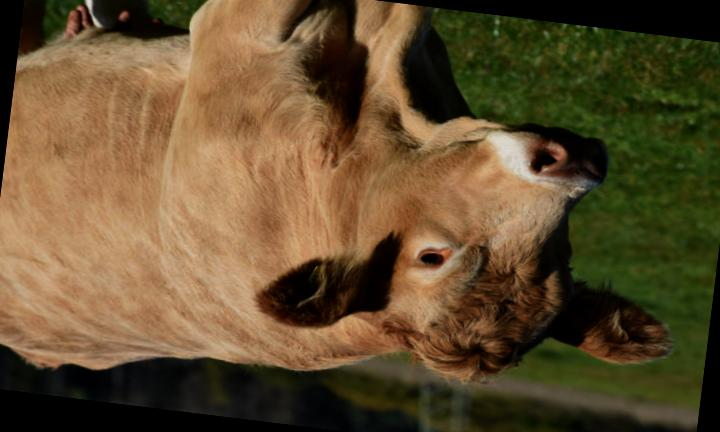Charolais: (0, 0, 669, 381)
